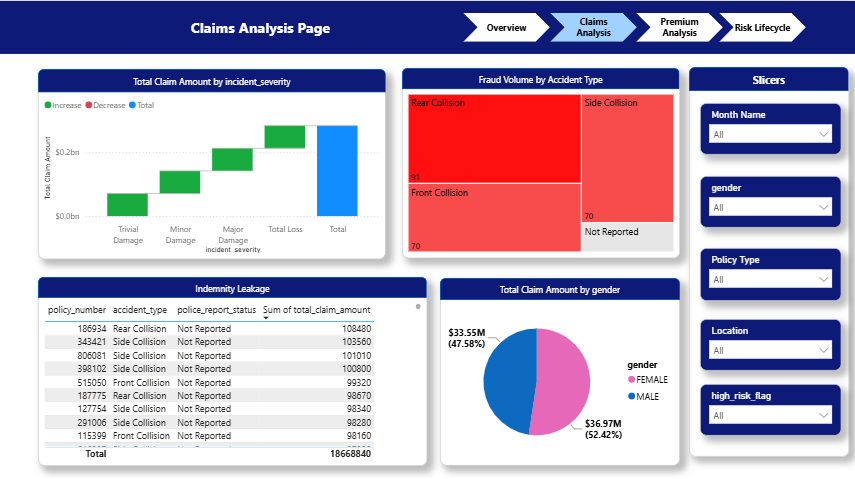

What the dashboard file says about the page in this screenshot:
{"tool":"powerbi","page":{"name":"Claims Analysis","canvas":[1280,720],"ordinal":1},"visuals":[{"type":"shape","box":[0,0,1280.2,79.2],"z":0},{"type":"tableEx","title":"Indemnity Leakage","fields":{"Values":["v_auto_refined.policy_number","v_auto_refined.accident_type","v_auto_refined.police_report_status","Sum(v_auto_refined.total_claim_amount)"]},"box":[59.7,412,580.6,282],"z":0,"group":"g3"},{"type":"shape","box":[694.3,18.6,130,42.9],"z":1000},{"type":"treemap","fields":{"Group":["v_auto_refined.accident_type"],"Values":["Sum(v_auto_refined.is_fraud_flag)"]},"box":[603,100,414.9,283.6],"z":1000,"group":"g2"},{"type":"shape","box":[824.3,18.6,130,42.9],"z":2000},{"type":"shape","box":[952.9,18.6,130,42.9],"z":3000},{"type":"shape","box":[1075.7,18.6,130,42.9],"z":4000},{"type":"shape","box":[190.8,13.8,401.5,52.3],"z":5000},{"type":"group","id":"g1","title":"Group 1","box":[59.7,101.5,519.4,283.6],"z":6000},{"type":"waterfallChart","fields":{"Category":["v_auto_refined.incident_severity"],"Y":["_Measures.Total Claim Amount"]},"box":[59.7,101.5,519.4,283.6],"z":6000,"group":"g1"},{"type":"group","id":"g2","title":"Group 2","box":[603,100,414.9,283.6],"z":7000},{"type":"group","id":"g3","title":"Group 3","box":[59.7,411.9,580.6,282.1],"z":8000},{"type":"pieChart","fields":{"Category":["Dim_Gender.gender"],"Y":["_Measures.Total Claim Amount"]},"box":[659.9,414,358,280],"z":8000,"group":"g4"},{"type":"shape","box":[603.3,100.1,414.2,31.6],"z":9000,"group":"g2"},{"type":"group","id":"g4","title":"Group 4","box":[659.7,413.4,358.2,280.6],"z":9000},{"type":"shape","box":[1030.8,100,238.6,580],"z":10000},{"type":"shape","box":[59.7,411.9,580.5,31.2],"z":10000,"group":"g3"},{"type":"slicer","fields":{"Values":["v_executive_summary.business_line"]},"box":[1047.3,368.7,211.2,78.6],"z":11000},{"type":"shape","box":[659.7,413.4,358.1,32.7],"z":11000,"group":"g4"},{"type":"slicer","fields":{"Values":["Dim_Geography.policy_state"]},"box":[1047.3,474.1,211.2,77.2],"z":12000},{"type":"slicer","fields":{"Values":["Dim_Gender.gender"]},"box":[1047.3,261.6,211.2,76.8],"z":13000},{"type":"slicer","fields":{"Values":["v_executive_summary.high_risk_flag"]},"box":[1047.3,571.4,211.2,77.2],"z":14000},{"type":"shape","box":[59.7,101.7,519.2,35],"z":14003,"group":"g1"},{"type":"slicer","fields":{"Values":["Dim_Calendar.Month"]},"box":[1047.3,152.7,211.2,77.2],"z":15000},{"type":"shape","box":[1031.2,98.7,238.4,35.7],"z":16000}]}

Visuals, with their boxes in screenshot pixels (x1, y1, x2, y2), scaled from the page's 1280x720 canvas onto the 855x479 screenshot:
shape: 0,0,854,53
"Indemnity Leakage" tableEx: 40,274,428,462
shape: 464,12,551,41
treemap - v_auto_refined.accident_type x Sum(v_auto_refined.is_fraud_flag): 403,67,680,255
shape: 551,12,637,41
shape: 637,12,723,41
shape: 719,12,805,41
shape: 127,9,396,44
"Group 1" group: 40,68,387,256
waterfallChart - v_auto_refined.incident_severity x _Measures.Total Claim Amount: 40,68,387,256
"Group 2" group: 403,67,680,255
"Group 3" group: 40,274,428,462
pieChart - Dim_Gender.gender x _Measures.Total Claim Amount: 441,275,680,462
shape: 403,67,680,88
"Group 4" group: 441,275,680,462
shape: 689,67,848,452
shape: 40,274,428,295
slicer - v_executive_summary.business_line: 700,245,841,298
shape: 441,275,680,297
slicer - Dim_Geography.policy_state: 700,315,841,367
slicer - Dim_Gender.gender: 700,174,841,225
slicer - v_executive_summary.high_risk_flag: 700,380,841,431
shape: 40,68,387,91
slicer - Dim_Calendar.Month: 700,102,841,153
shape: 689,66,848,89
